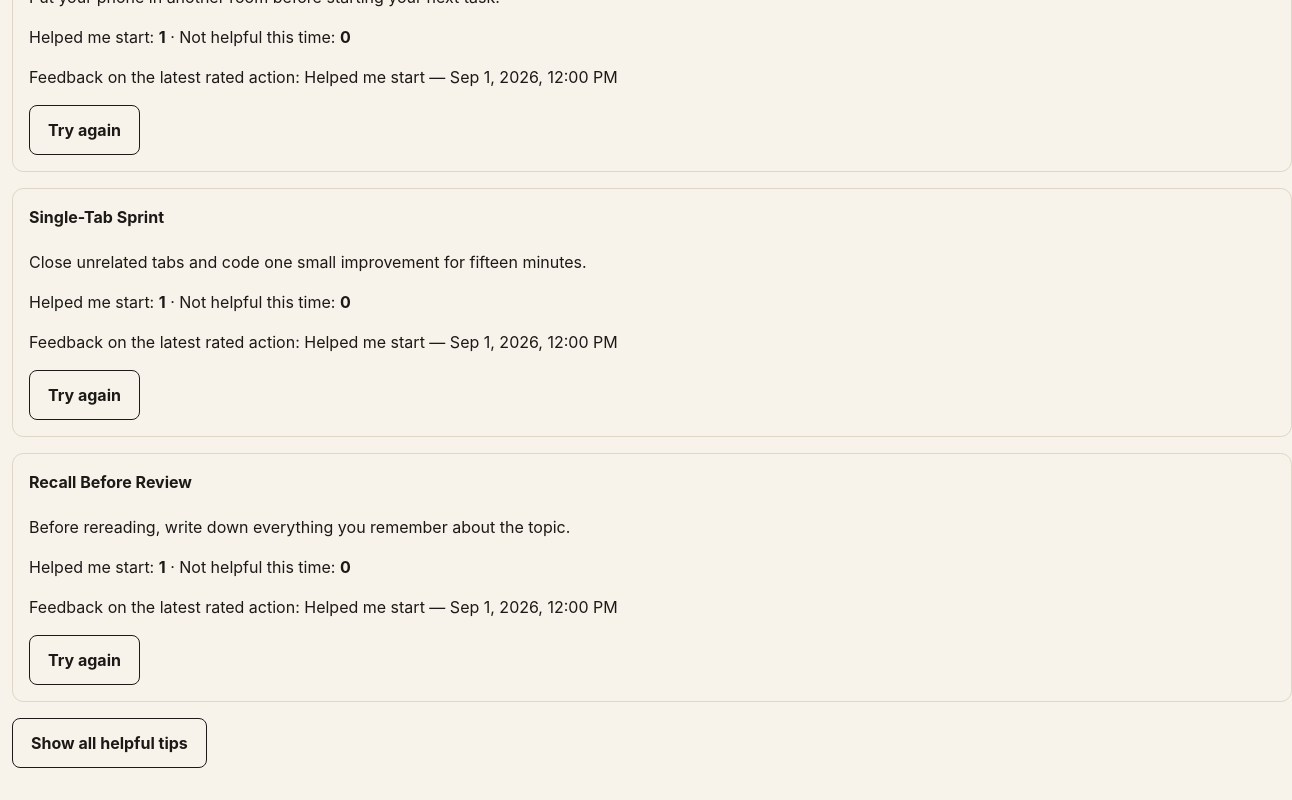
Test: offers all tips without initially overwhelming the section
The width and height of the screenshot is (1292, 800).
(page scrolled)
Click the button "Show all helpful tips": (109, 743) [12,718,207,768]
(page scrolled)
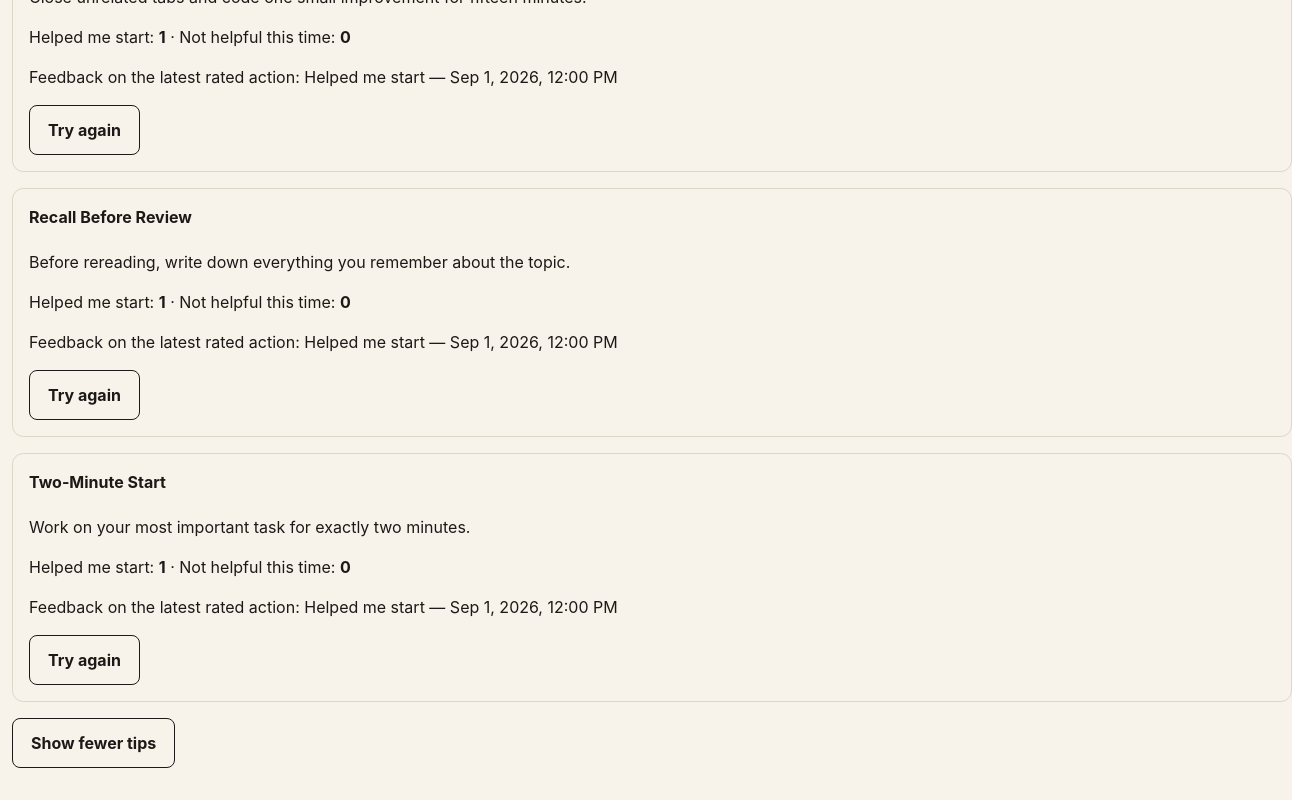
Now the number of list items is 6
Click the button "Show fewer tips": (94, 743) [12,718,175,768]
(page scrolled)
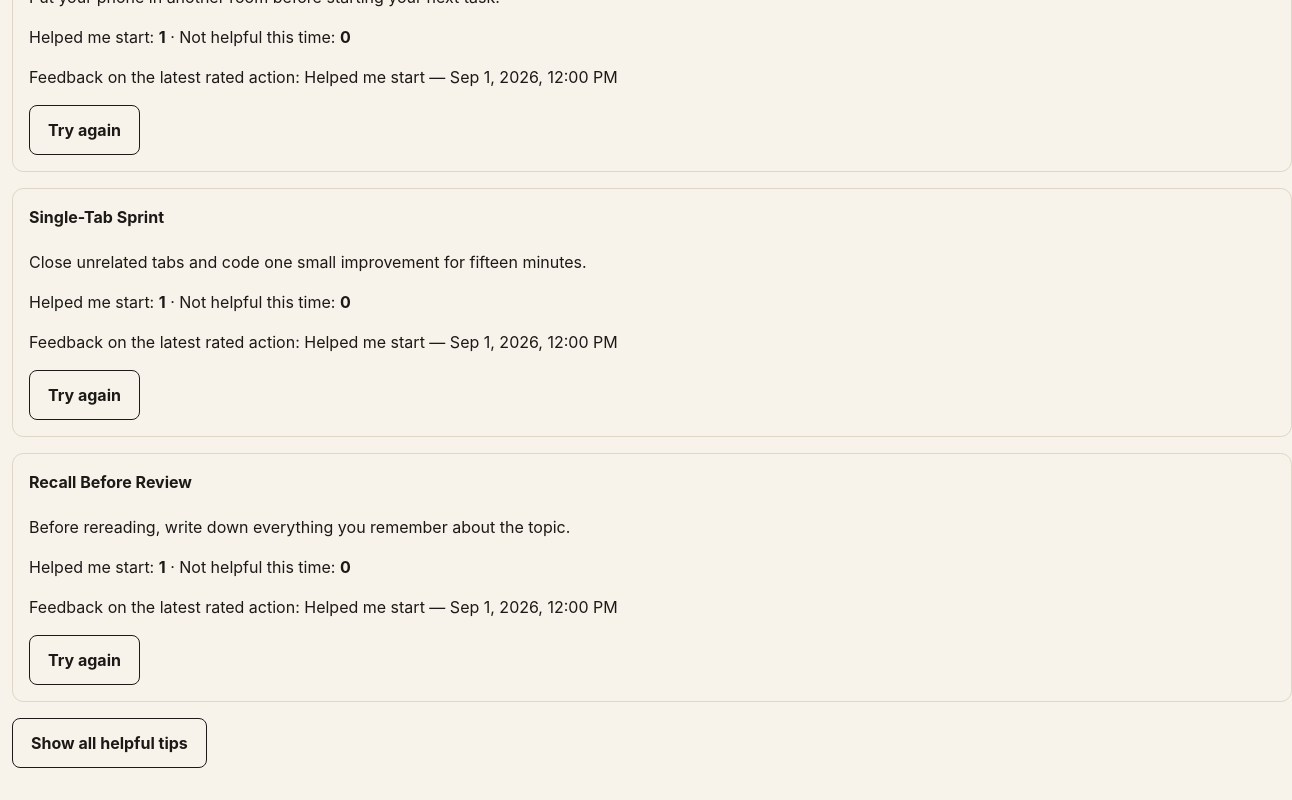
Now the number of list items is 5
